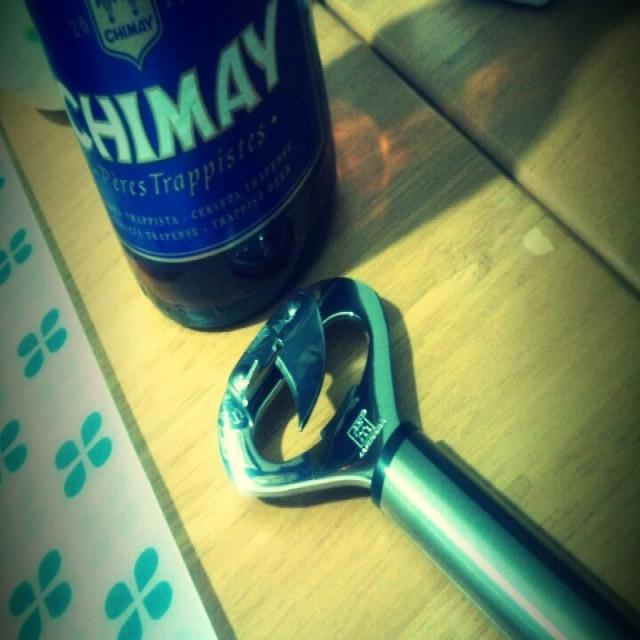chimay: (30, 2, 332, 265)
